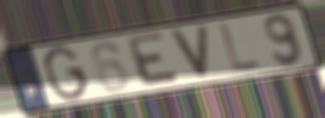6: (89, 39, 130, 94)
9: (262, 12, 306, 68)
E: (126, 30, 184, 89)
G: (41, 45, 90, 103)
L: (217, 20, 264, 74)
V: (167, 24, 211, 81)
